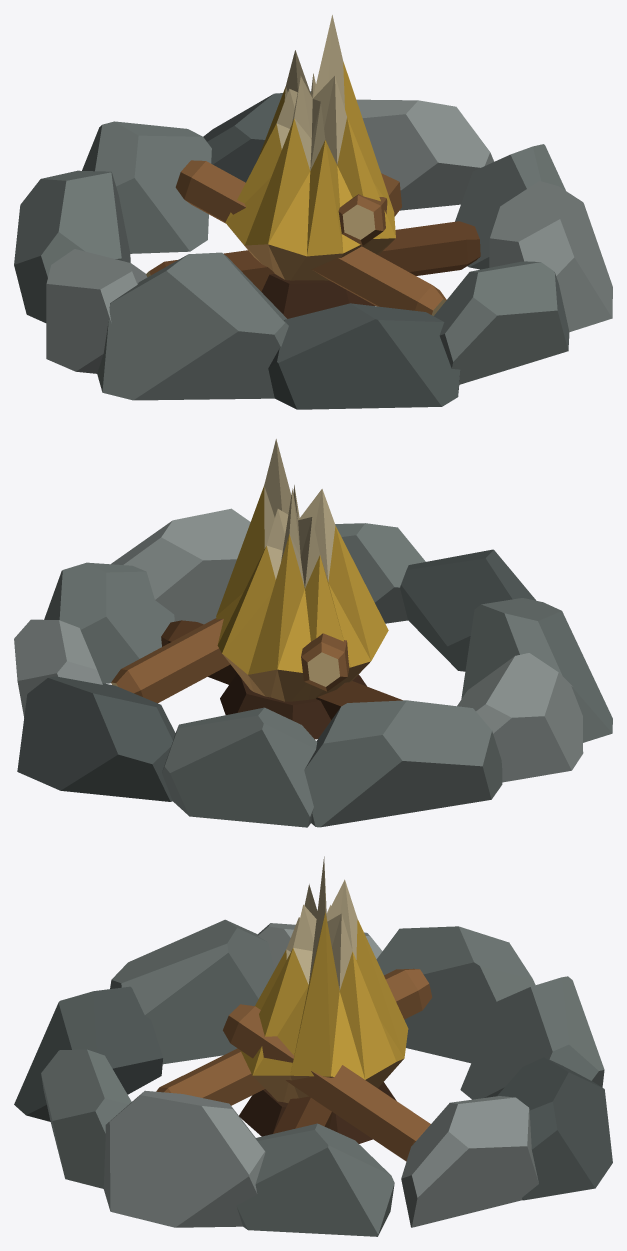
Rendered from fire.glb.
3 renders of one model, top to bottom at view 1: azimuth 30°, elevation 25°; view 2: azimuth 150°, elevation 25°; view 3: azimuth 270°, elevation 25°, orthographic.
Visible parts, largest first — view 1: fire-ring, flame-mesh; view 2: fire-ring, flame-mesh; view 3: fire-ring, flame-mesh.
Part boxes in pixels (x1=…): fire-ring: x1=14, y1=91, x2=612, y2=409; flame-mesh: x1=225, y1=15, x2=395, y2=280; fire-ring: x1=14, y1=508, x2=612, y2=827; flame-mesh: x1=216, y1=439, x2=388, y2=701; fire-ring: x1=14, y1=919, x2=612, y2=1236; flame-mesh: x1=240, y1=856, x2=408, y2=1102.
Bounding box in the file's own units: 1.05 × 0.52 × 1.04.
